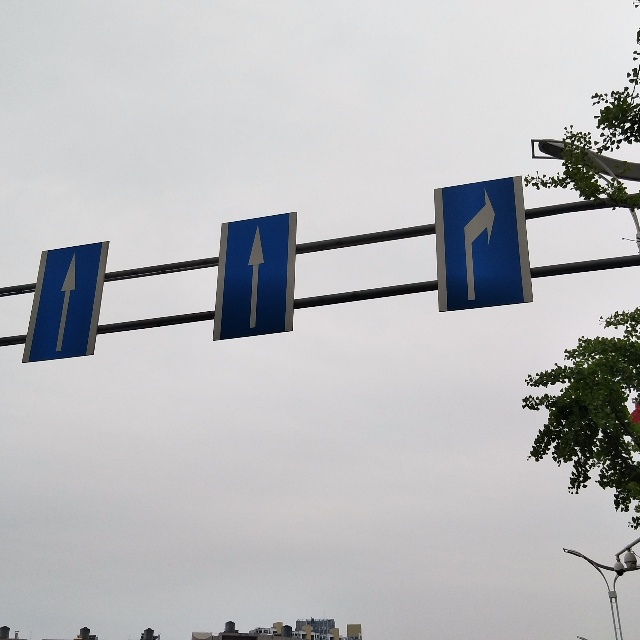right: (430, 181, 533, 312)
straight: (216, 211, 300, 341), (20, 244, 109, 364)
